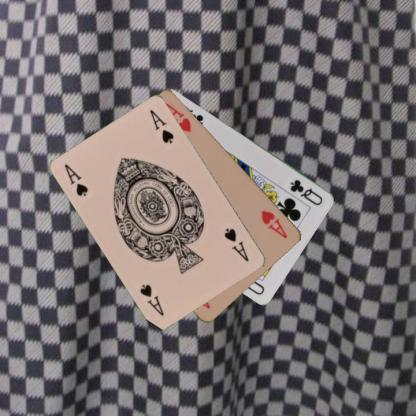Ah: (258, 207, 289, 240)
As: (222, 226, 251, 263), (62, 161, 89, 198)
Qc: (288, 177, 324, 207)
